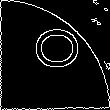O_W: (29, 33, 81, 77)
